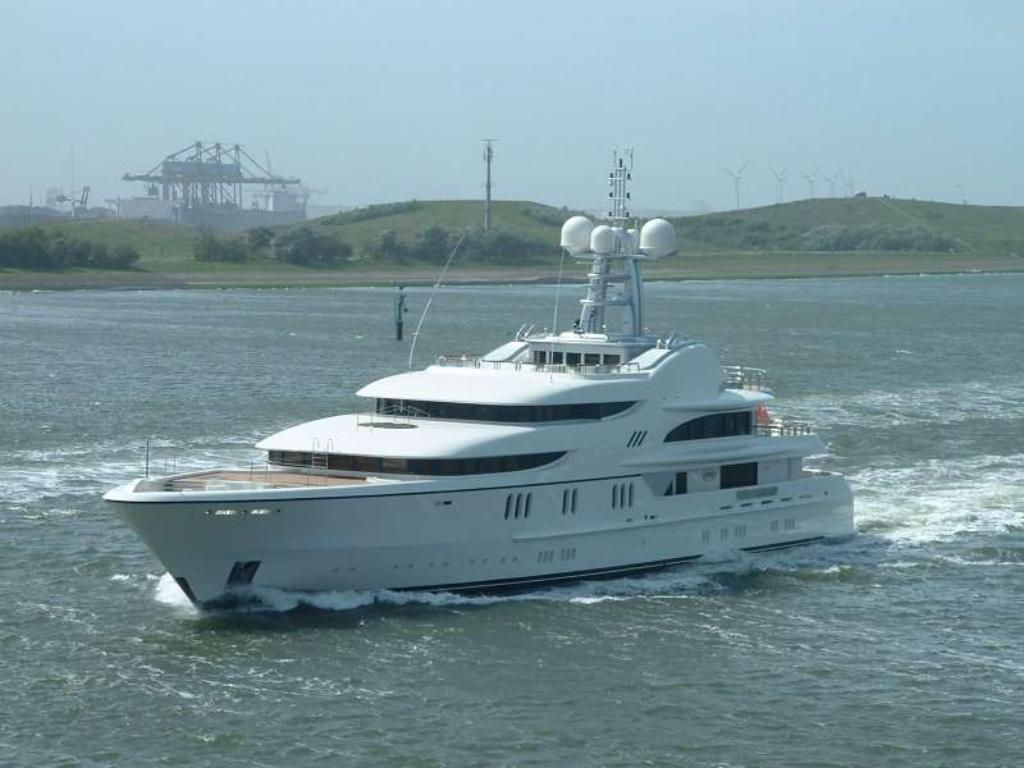PassengerShip: (111, 152, 855, 606)
